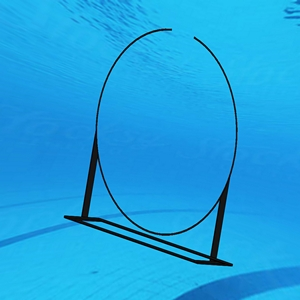circle: (61, 23, 241, 271)
